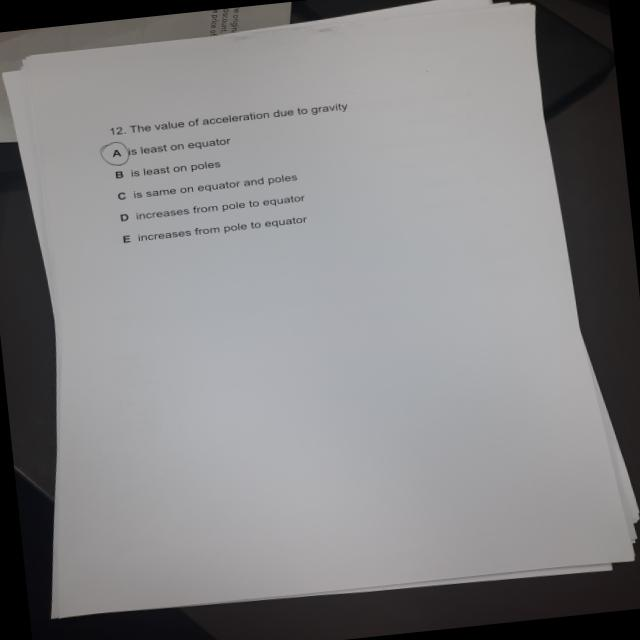A: (96, 140, 134, 170)
